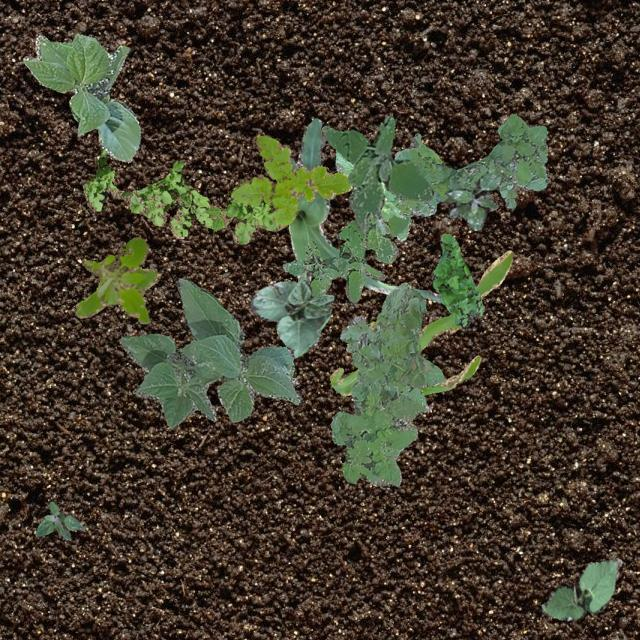crop: (288, 118, 440, 302), (120, 276, 300, 428), (329, 250, 512, 394), (22, 32, 140, 162), (250, 276, 332, 356), (540, 556, 622, 620), (375, 180, 403, 233)
weed: (334, 112, 548, 240), (330, 282, 444, 486), (81, 148, 282, 244), (320, 115, 432, 232), (282, 212, 409, 302), (230, 134, 350, 226), (74, 235, 160, 322), (430, 232, 482, 326), (440, 166, 502, 230), (35, 500, 83, 540)
